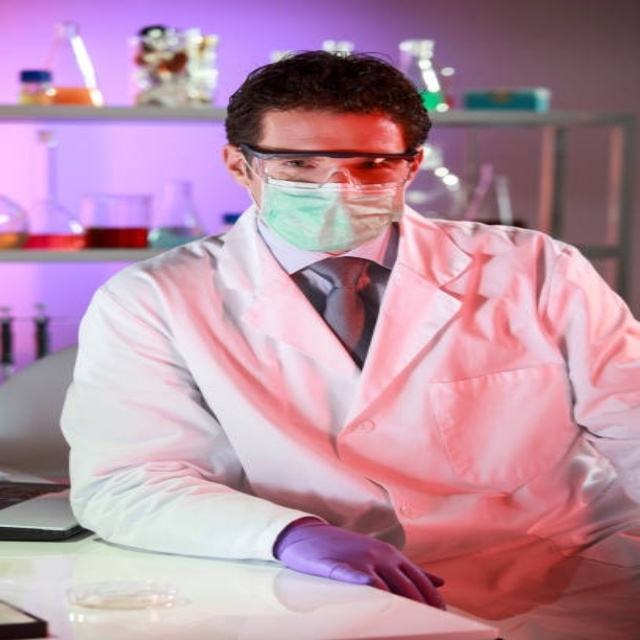Gafas: (238, 144, 418, 189)
Guantes: (275, 516, 448, 612)
Mascara: (251, 169, 411, 255)
